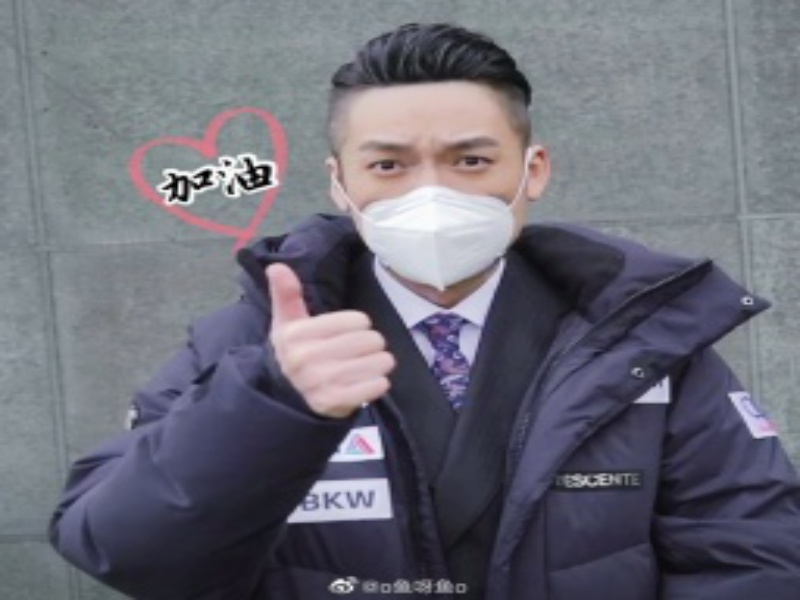ManaoArotava: (307, 22, 562, 310)
